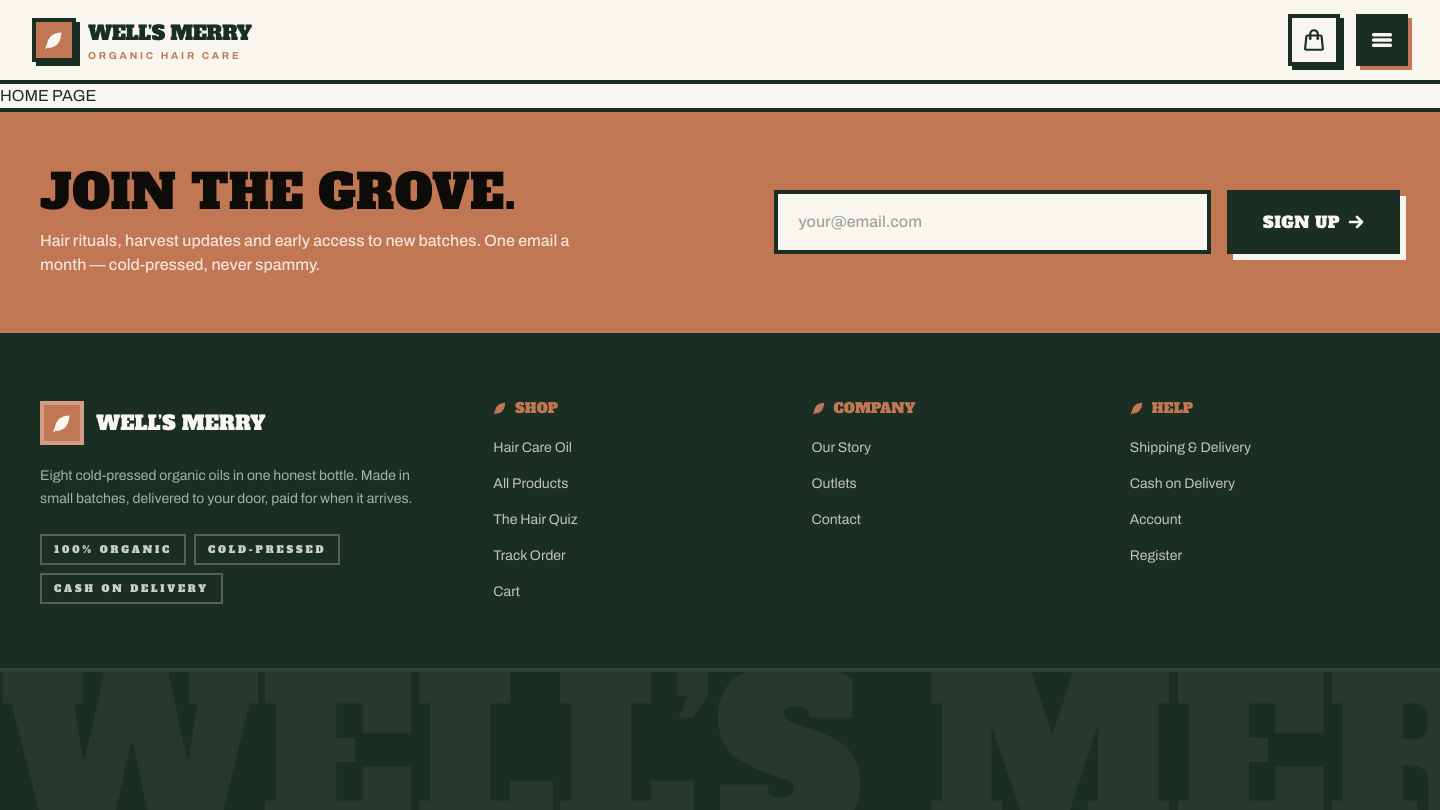
Test: Navbar overlay › closes before navigating when 'Login' is clicked
The width and height of the screenshot is (1440, 810).
What coordinates should you click on to do the following:
click the button named "open menu"
I would click on:
 (1382, 40)
Its box is [1356,14,1408,66].
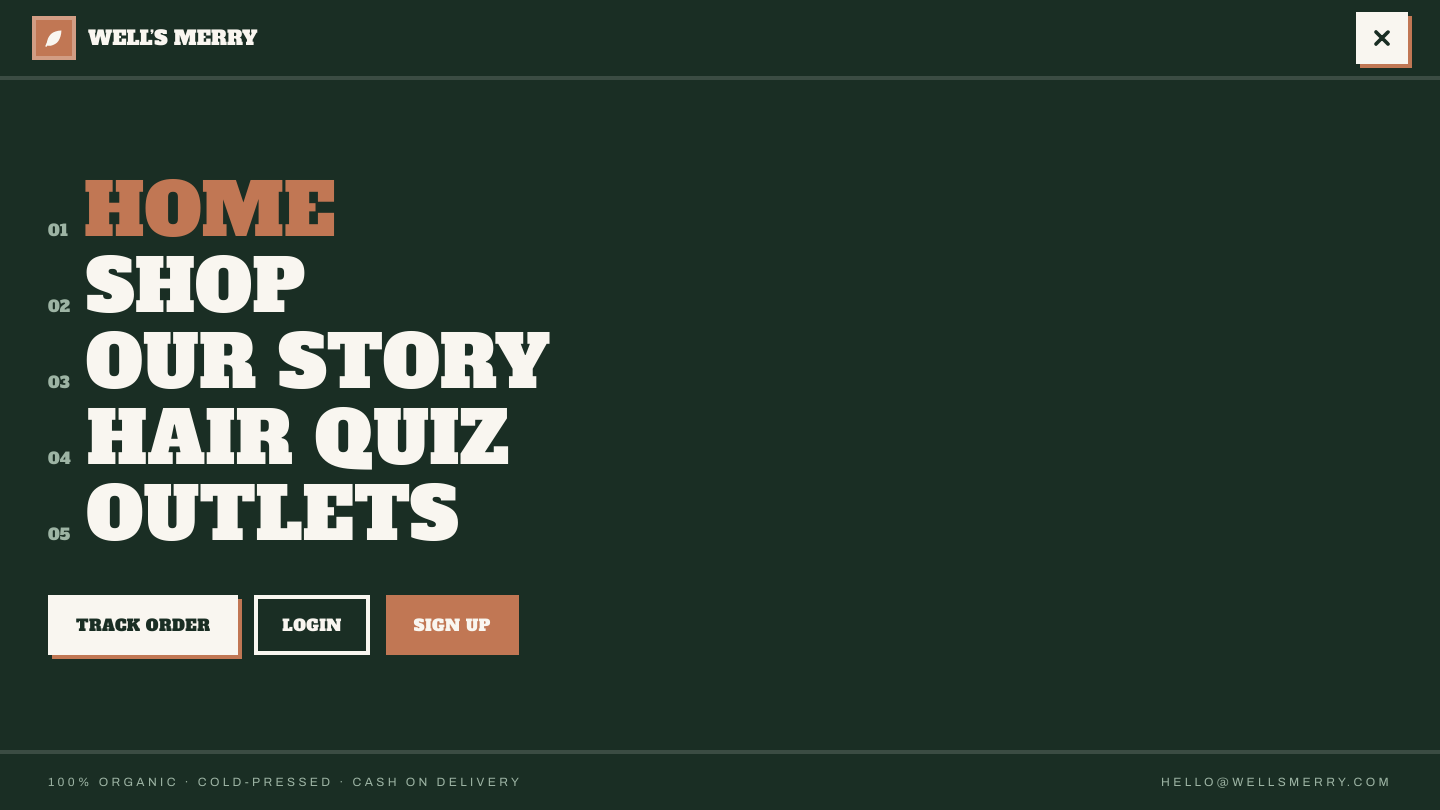
What coordinates should you click on to do the following:
click the link "Login"
I would click on:
 (312, 625)
Its box is [254,595,370,655].
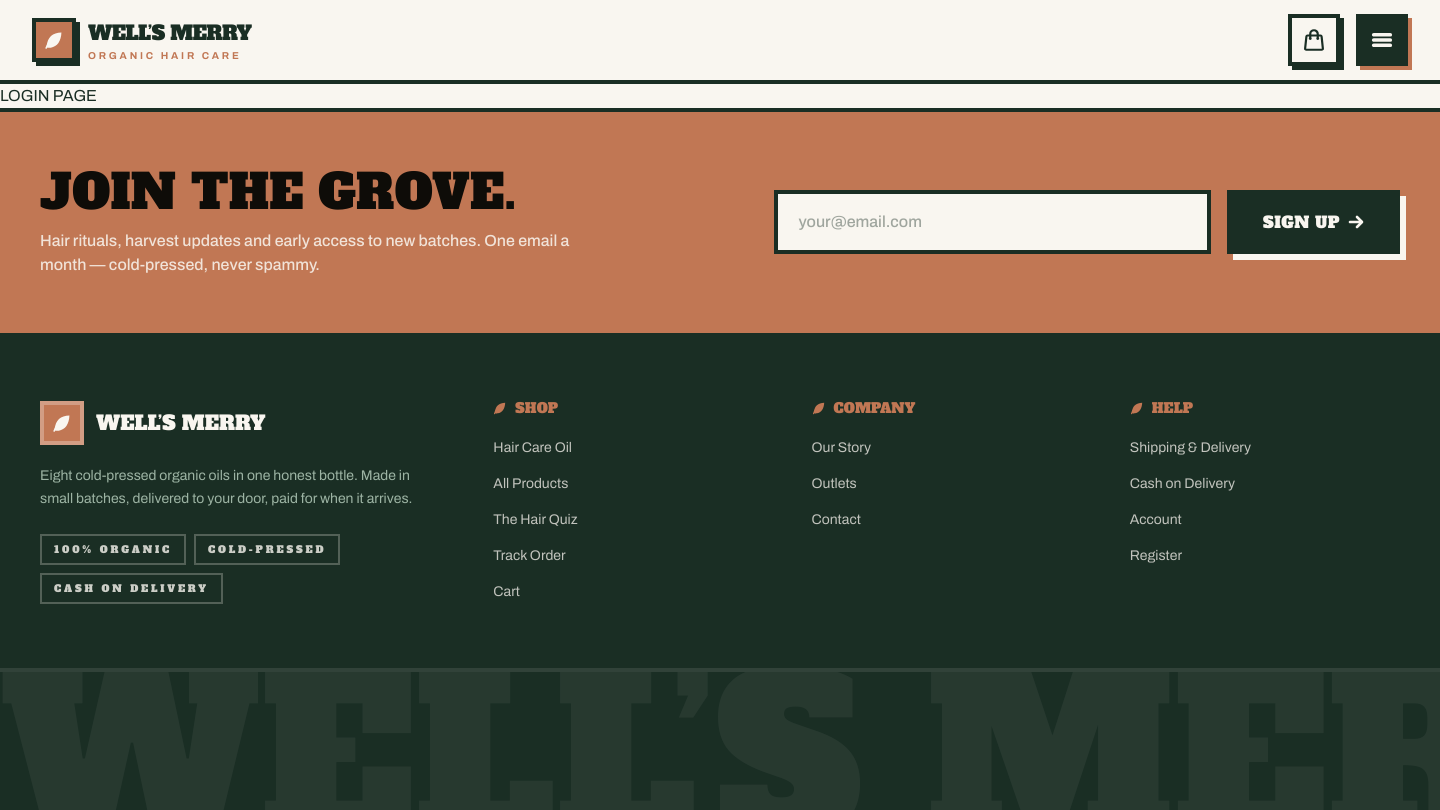
Now the text "LOGIN PAGE" is shown, box [0,87,97,104]
